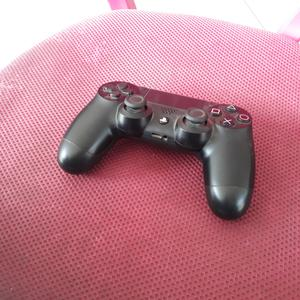controller: (58, 82, 254, 219)
